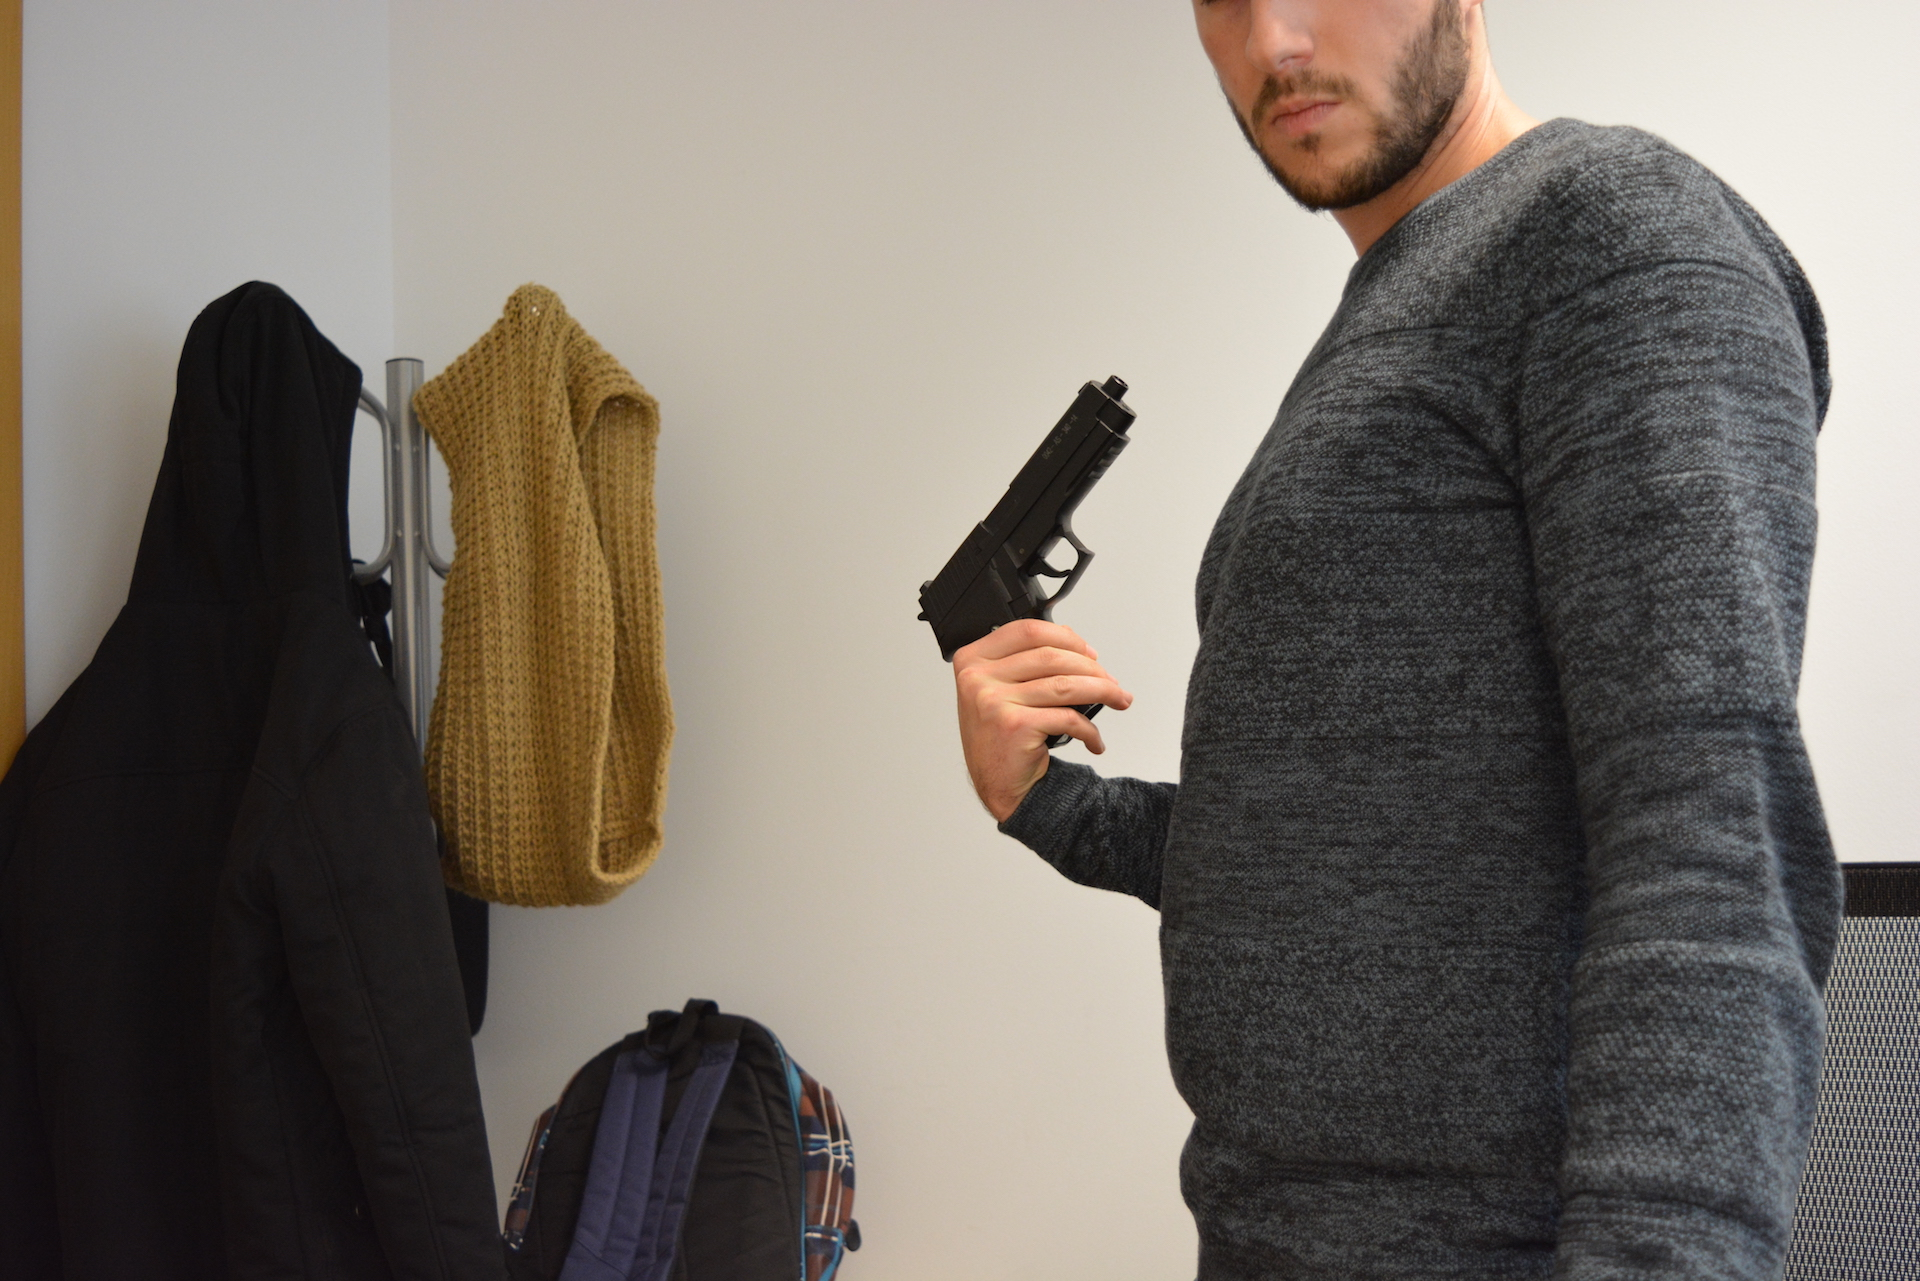pistol: (916, 372, 1139, 752)
